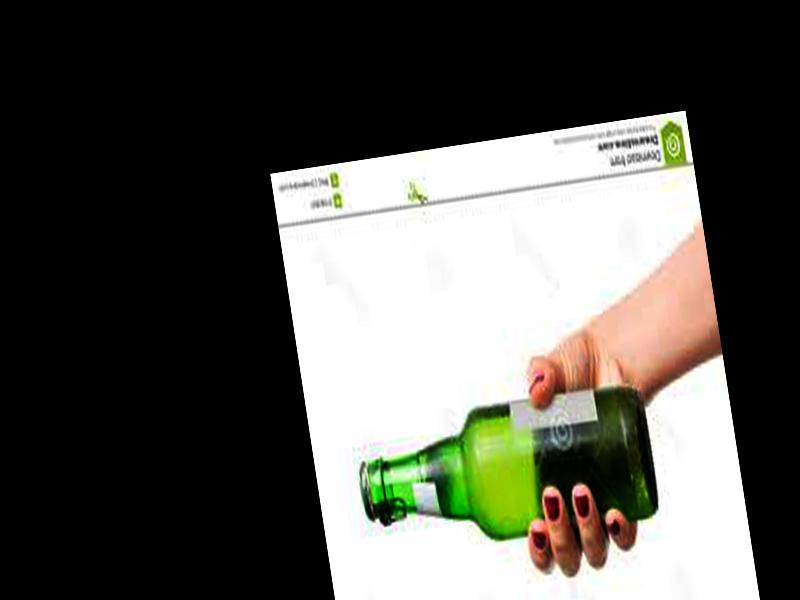Beer: (350, 378, 661, 568)
